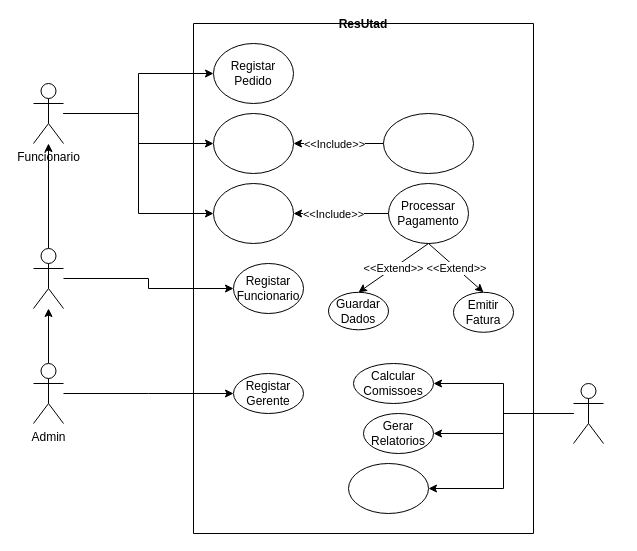
This 637x551 diagram has some shape labels left out. The centre of each missing label's shape, as x and y in pixels:
"1x /semana" goes at (588,413).
"Cancelar Pedido" goes at (253,143).
"Enviar Notificação Admin" goes at (428,143).
"Faturacao" goes at (388,488).
"Fechar Conta" goes at (253,213).
"Gerente" goes at (48,278).
